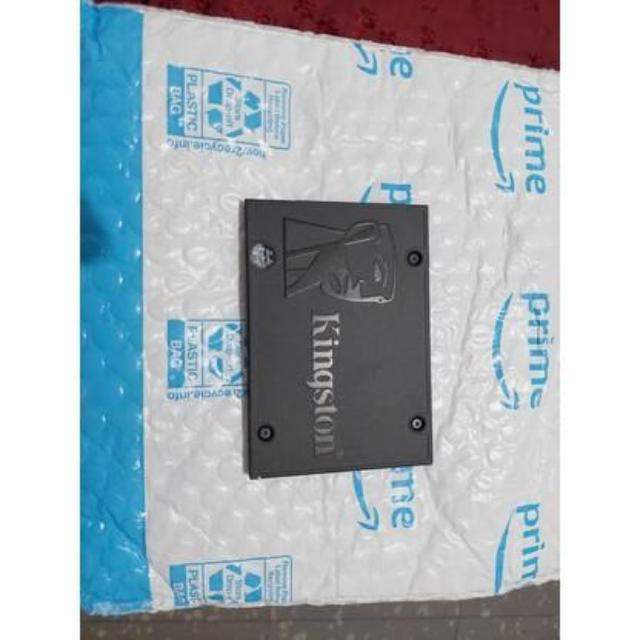DISK: (237, 190, 446, 487)
